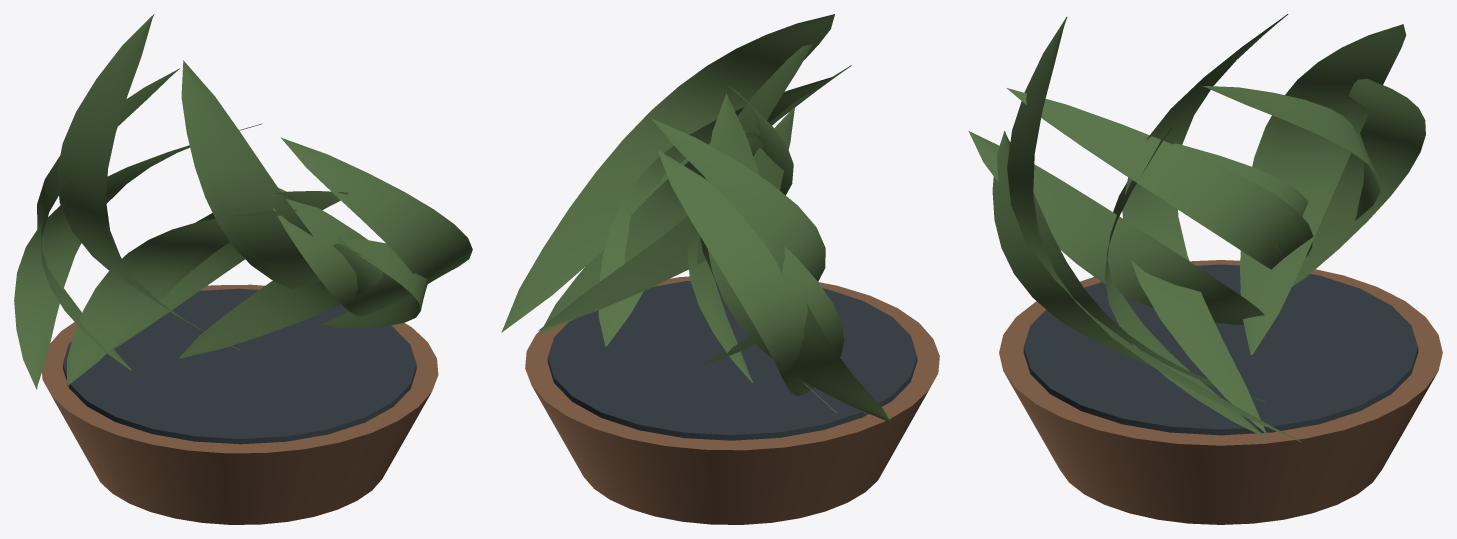
Rendered from plant-14-4.glb.
3 renders of one model, left to right at view 1: azimuth 30°, elevation 25°; view 2: azimuth 150°, elevation 25°; view 3: azimuth 270°, elevation 25°, orthographic. The views are drawn at different scales.
Visible parts, largest first — view 1: part (×12); view 2: part (×12); view 3: part (×12).
Part boxes in pixels (x1,y1,x2,y2): part (×12): (14,14,472,524); part (×12): (501,14,939,524); part (×12): (968,14,1442,524).
Bounding box in the file's own units: 1 × 1 × 1.
